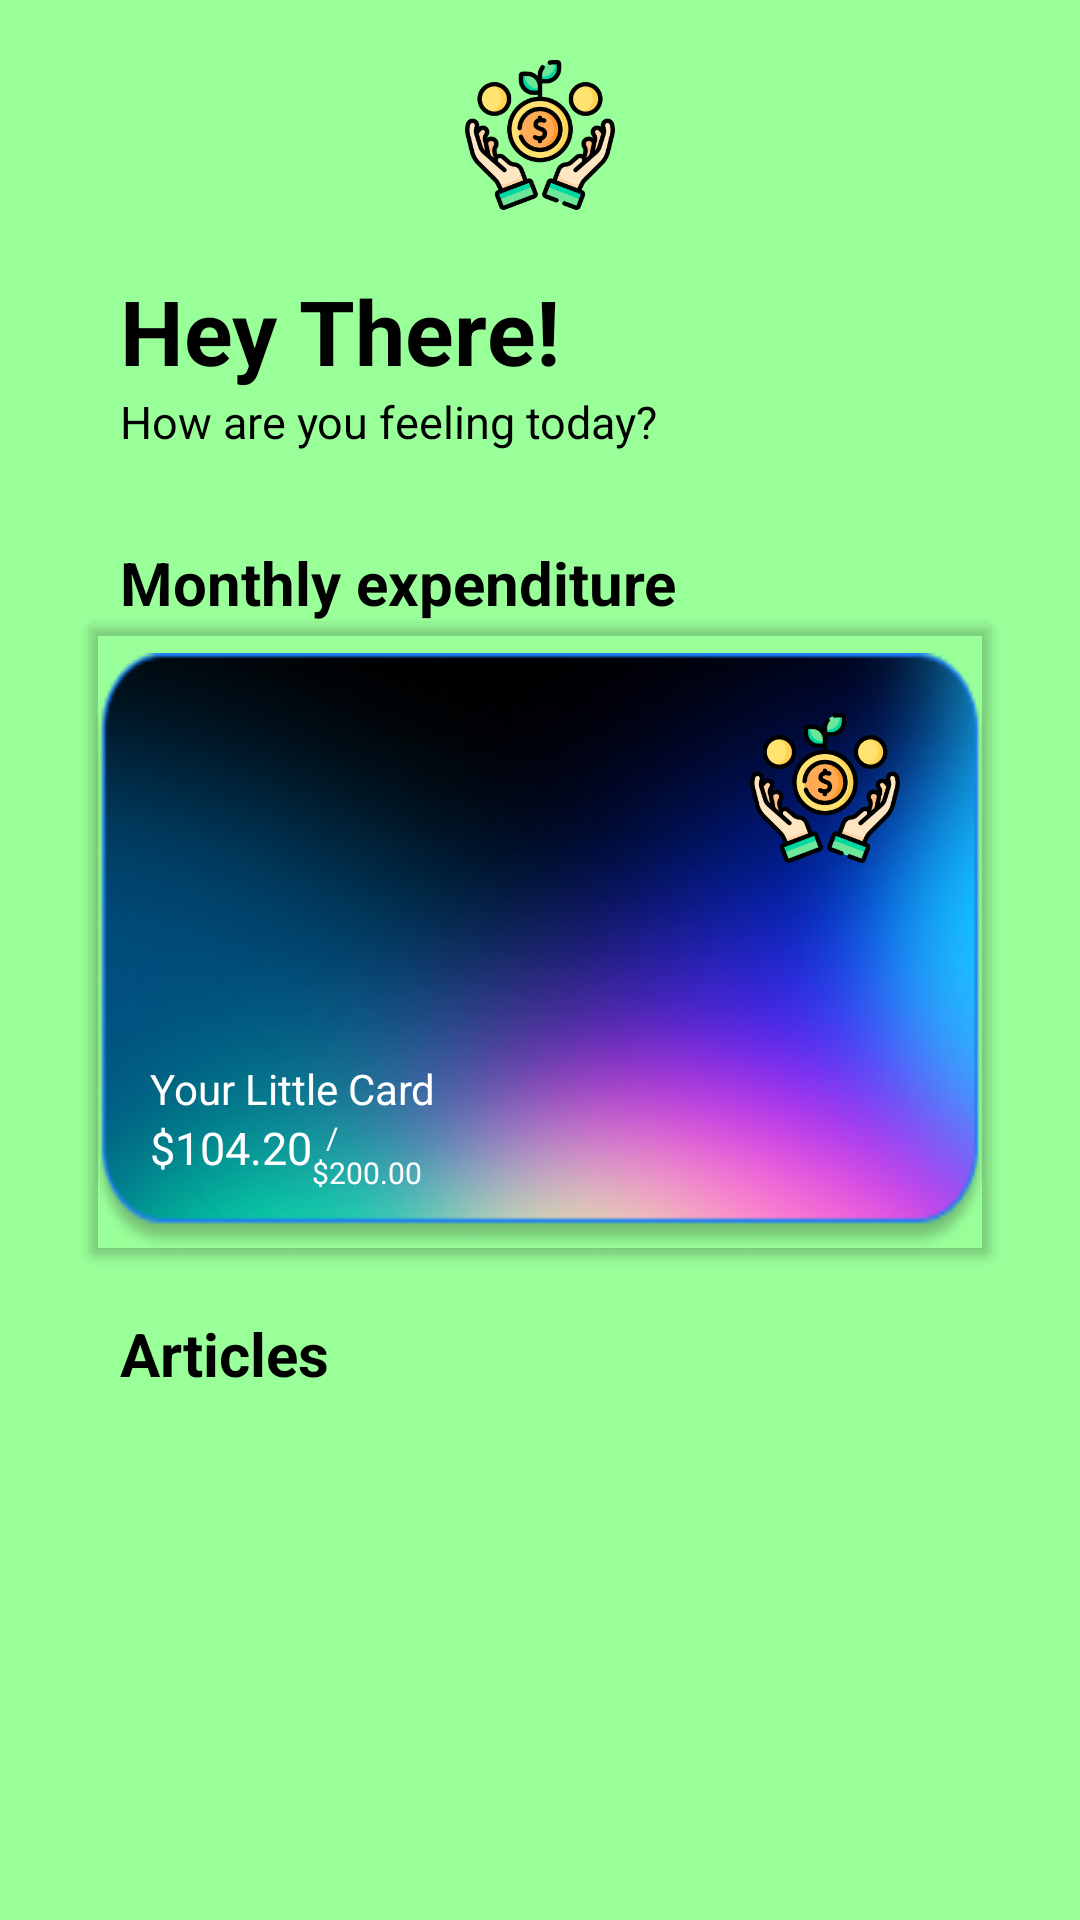

Icon click points for this 1080 × 1920 phone screenshot, format (x,y):
finance: (540,135), (825,788)
